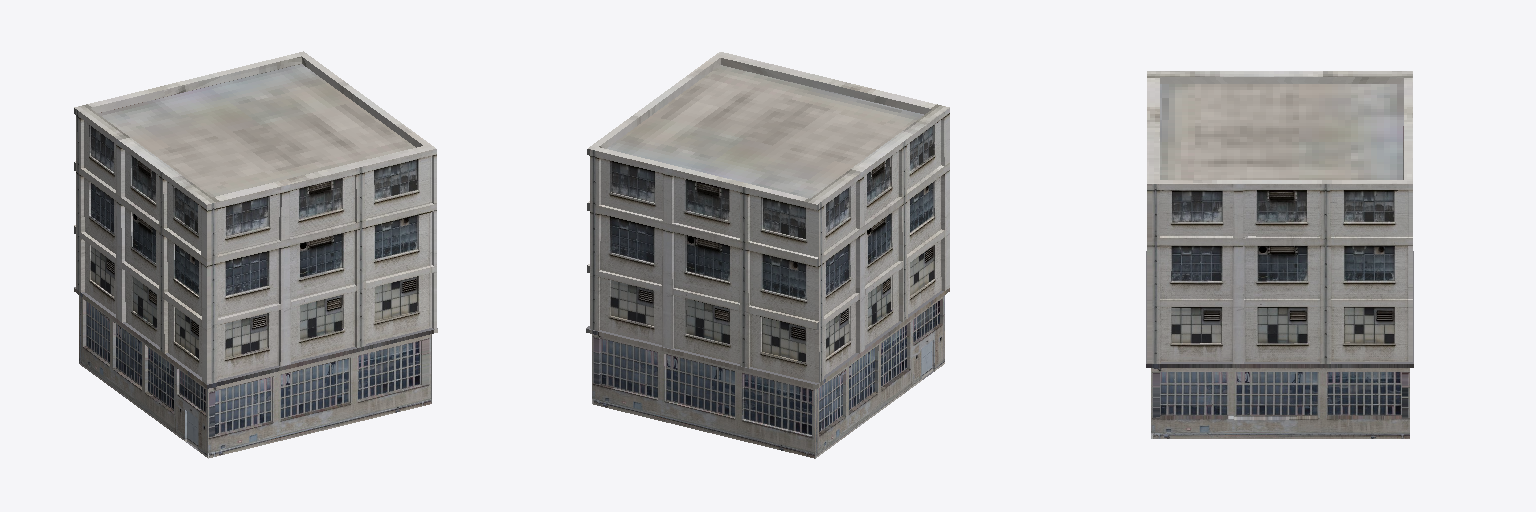
3 renders of one model, left to right at view 1: azimuth 30°, elevation 25°; view 2: azimuth 150°, elevation 25°; view 3: azimuth 270°, elevation 25°, orthographic.
Parts seen in each view (by area): view 1: Material_001-material; view 2: Material_001-material; view 3: Material_001-material.
Part boxes in pixels (x1,y1,x2,y2): Material_001-material: (74,51,437,458); Material_001-material: (586,52,949,458); Material_001-material: (1146,71,1413,438).
Size of the model in its own units: 5.76 by 6.1 by 5.77.
Materials: 1 (1 with a texture image).